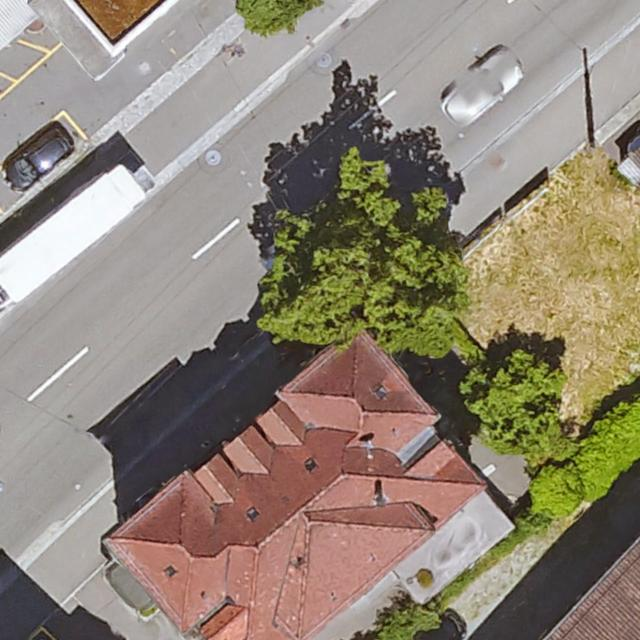tree: (258, 153, 465, 350), (464, 350, 565, 454), (235, 0, 328, 35)
